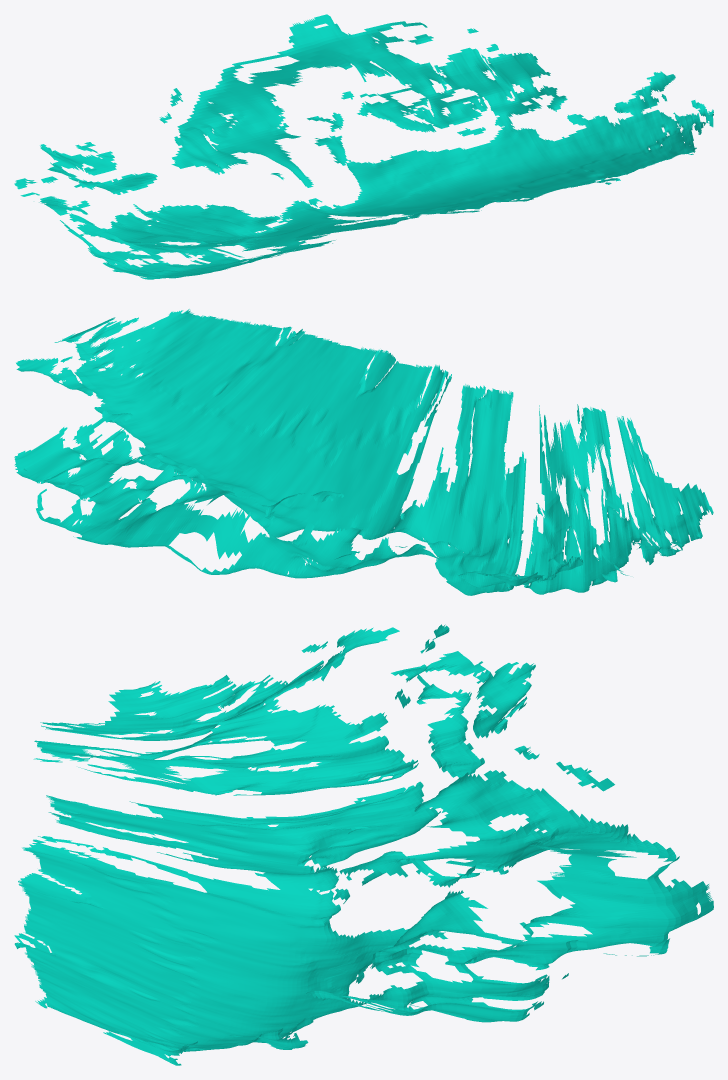
File: walkable.glb
The picture shows the model from 3 angles, top to bottom: view 1: azimuth 30°, elevation 25°; view 2: azimuth 150°, elevation 25°; view 3: azimuth 270°, elevation 25°; orthographic projection. The views are drawn at different scales.
Visible parts, largest first — view 1: geometry_0; view 2: geometry_0; view 3: geometry_0.
Part boxes in pixels (x1,y1,x2,y2): geometry_0: (14,14,713,279); geometry_0: (14,309,713,595); geometry_0: (14,624,713,1065).
Size of the model in its own units: 31.37 by 3.54 by 21.6.
